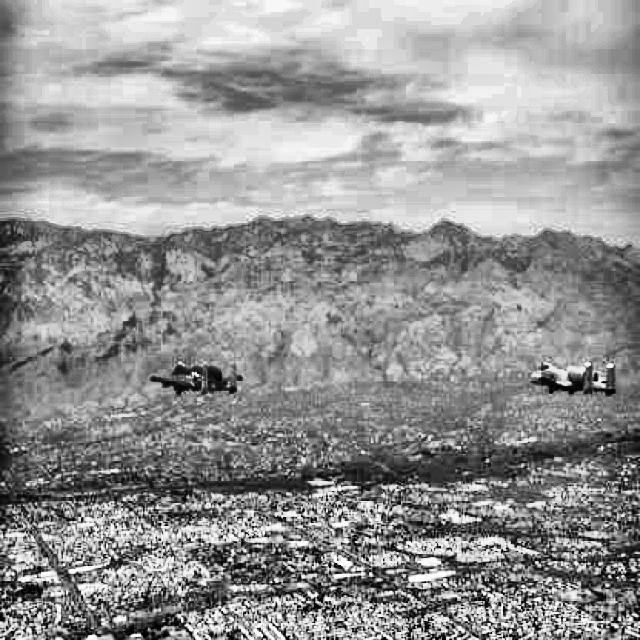A10: (151, 361, 243, 396), (530, 362, 616, 396)
